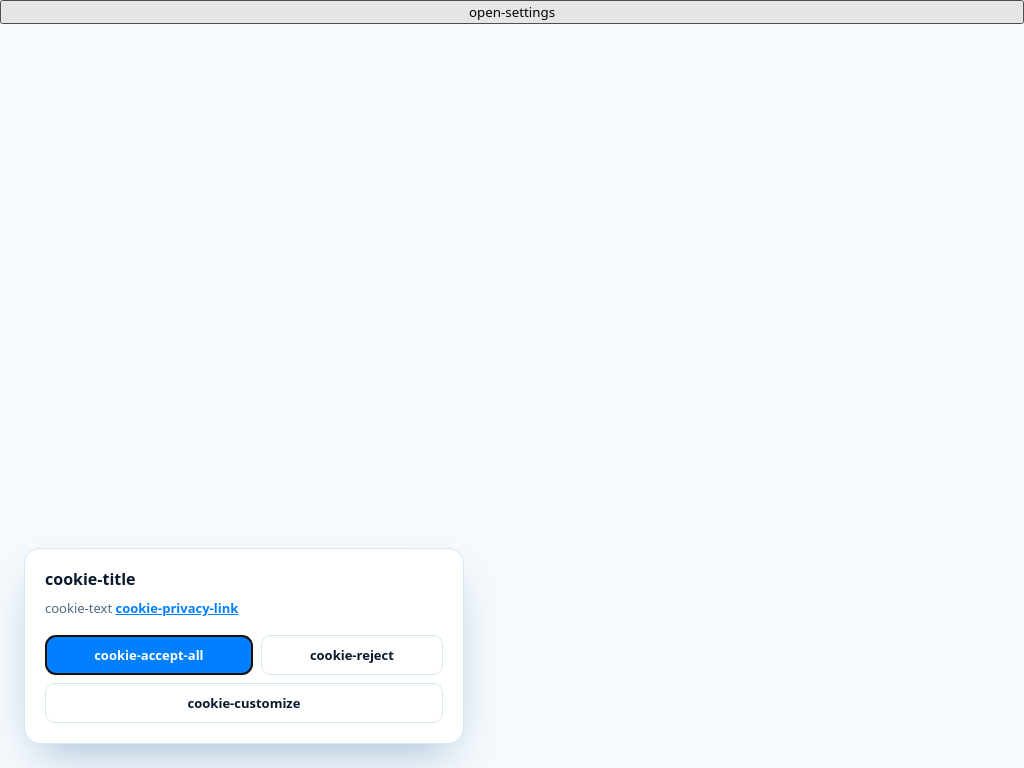
CookieConsent › უარყოფა ინახავს analytics=false-ს
Click the button "cookie-reject" at (352, 655), box x1=261 y1=635 x2=443 y2=675
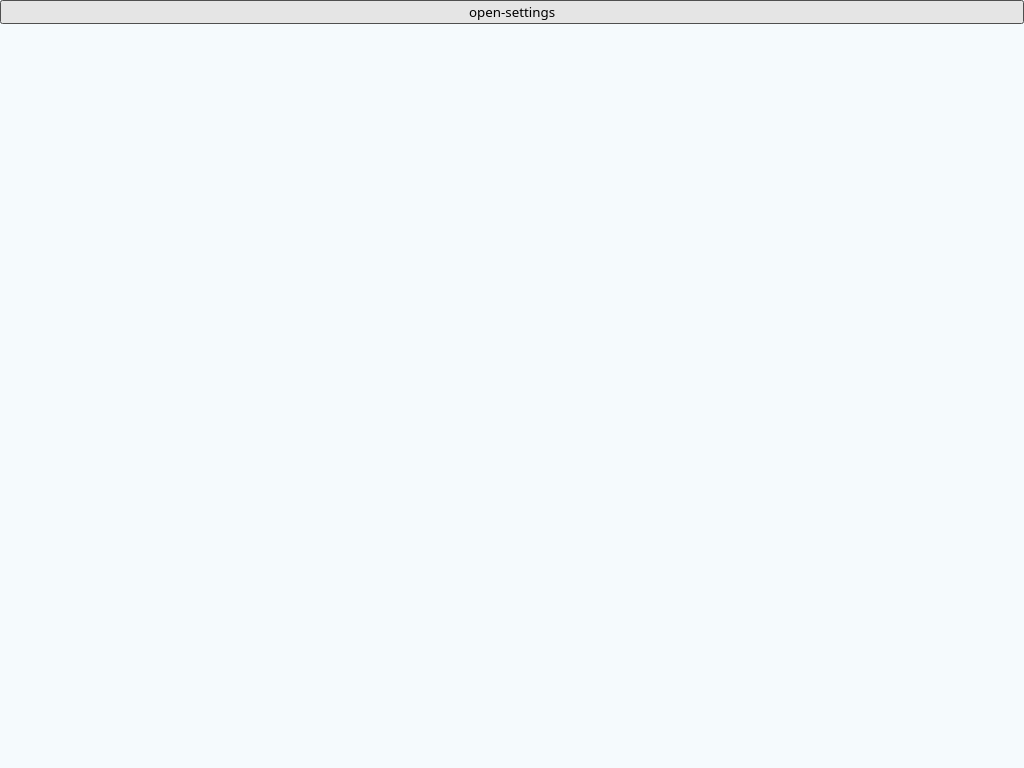
expect the dialog is gone: met
